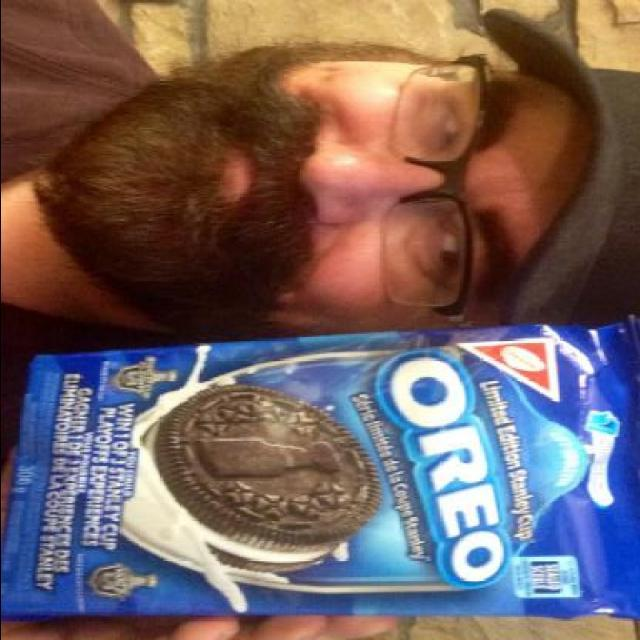Cookie: (139, 380, 387, 571)
